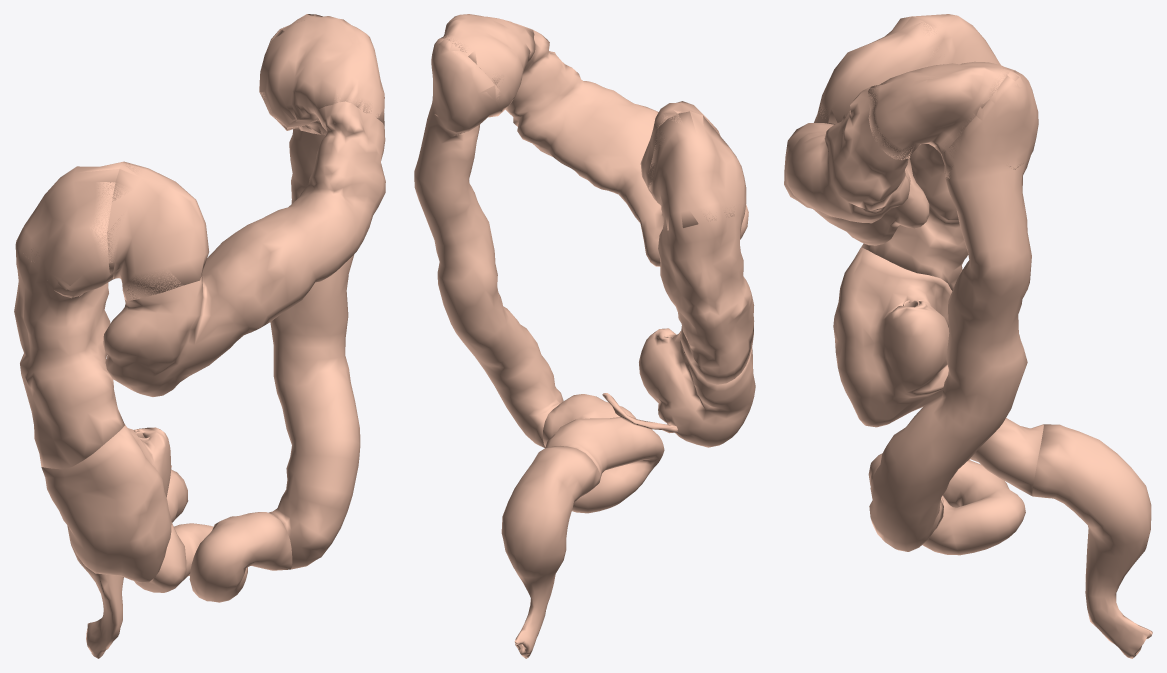
Rendered from sbu_m_intestine_large-80.fbx.
3 renders of one model, left to right at view 1: azimuth 30°, elevation 25°; view 2: azimuth 150°, elevation 25°; view 3: azimuth 270°, elevation 25°, orthographic. The views are drawn at different scales.
Parts seen in each view (by area): view 1: VH_M_transverse_colon, VH_M_ascending_colon, VH_M_descending_colon, VH_M_caecum, VH_M_hepatic_flexure_of_colon, VH_M_sigmoid_colon, VH_M_splenic_flexure_of_colon, VH_M_rectum; view 2: VH_M_descending_colon, VH_M_ascending_colon, VH_M_transverse_colon, VH_M_rectum, VH_M_caecum, VH_M_sigmoid_colon, VH_M_splenic_flexure_of_colon, VH_M_hepatic_flexure_of_colon, VH_M_vermiform_appendix; view 3: VH_M_descending_colon, VH_M_transverse_colon, VH_M_caecum, VH_M_rectum, VH_M_splenic_flexure_of_colon, VH_M_sigmoid_colon, VH_M_hepatic_flexure_of_colon, VH_M_ascending_colon.
Boxes of the visible parts, x1,y1,x2,y2 form: VH_M_transverse_colon: (103,14,385,396); VH_M_ascending_colon: (14,161,124,469); VH_M_descending_colon: (266,14,360,569); VH_M_caecum: (41,424,171,582); VH_M_hepatic_flexure_of_colon: (23,161,209,301); VH_M_sigmoid_colon: (134,469,292,602); VH_M_splenic_flexure_of_colon: (259,14,384,135); VH_M_rectum: (67,525,123,658); VH_M_descending_colon: (414,38,563,447); VH_M_ascending_colon: (648,111,754,384); VH_M_transverse_colon: (439,14,748,266); VH_M_rectum: (501,446,600,658); VH_M_caecum: (639,328,755,447); VH_M_sigmoid_colon: (543,394,664,513); VH_M_splenic_flexure_of_colon: (431,14,535,135); VH_M_hepatic_flexure_of_colon: (641,101,746,230); VH_M_vermiform_appendix: (602,393,677,433); VH_M_descending_colon: (869,70,1038,551); VH_M_transverse_colon: (784,16,1010,245); VH_M_caecum: (833,247,952,427); VH_M_rectum: (1032,424,1152,658); VH_M_splenic_flexure_of_colon: (868,61,1038,178); VH_M_sigmoid_colon: (868,418,1043,555); VH_M_hepatic_flexure_of_colon: (819,15,996,123); VH_M_ascending_colon: (861,14,1000,290).
Size of the model in its own units: 25.91 by 45.03 by 22.48.
